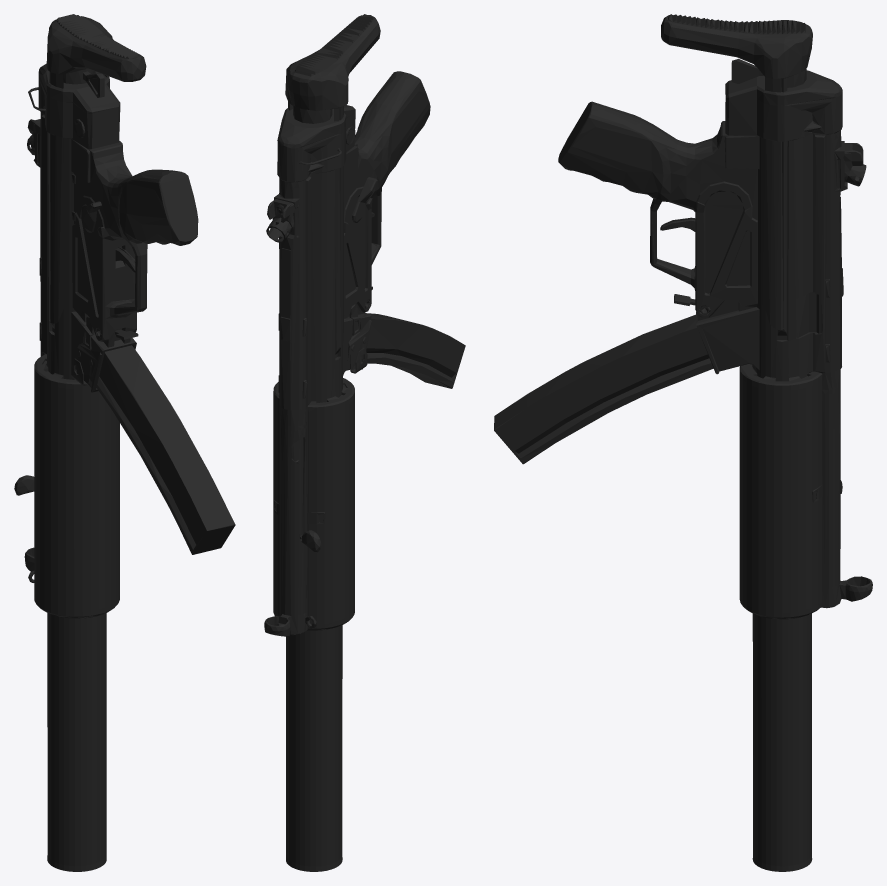
Rendered from w_smg_mp5sd.obj.
3 renders of one model, left to right at view 1: azimuth 30°, elevation 25°; view 2: azimuth 150°, elevation 25°; view 3: azimuth 270°, elevation 25°, orthographic. The views are drawn at different scales.
Bounding box in the file's own units: 0.028 × 0.3051 × 0.1238.
1 material, 1 textured.
